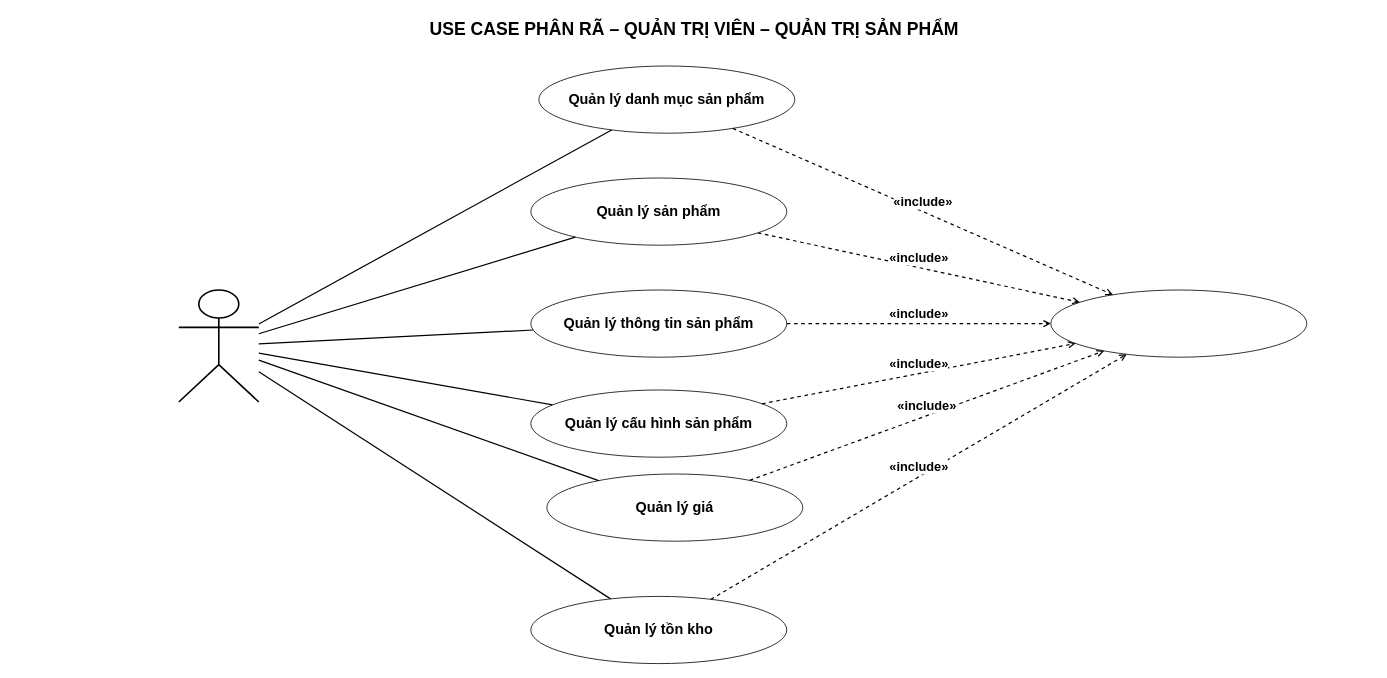
This 1387x678 diagram has some shape labels left out. The centre of each missing label's shape, as x and y in pixels:
Quản trị viên: (218,345)
Đăng nhập quản trị: (1178,323)
